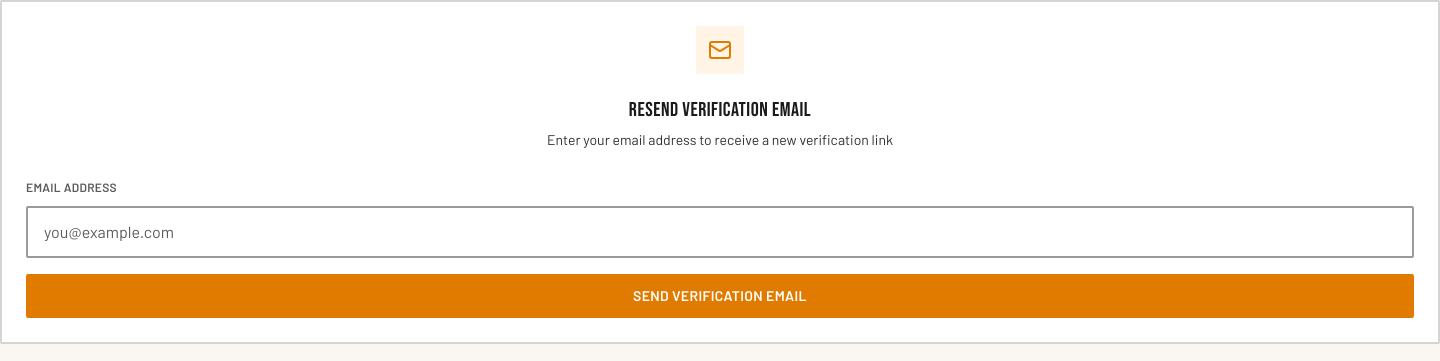
ResendVerificationForm › Form Submission - Success › should show success message after successful submission
In the field labelled "Email Address": [720, 232] box [26,206,1414,258], type "test@example.com"
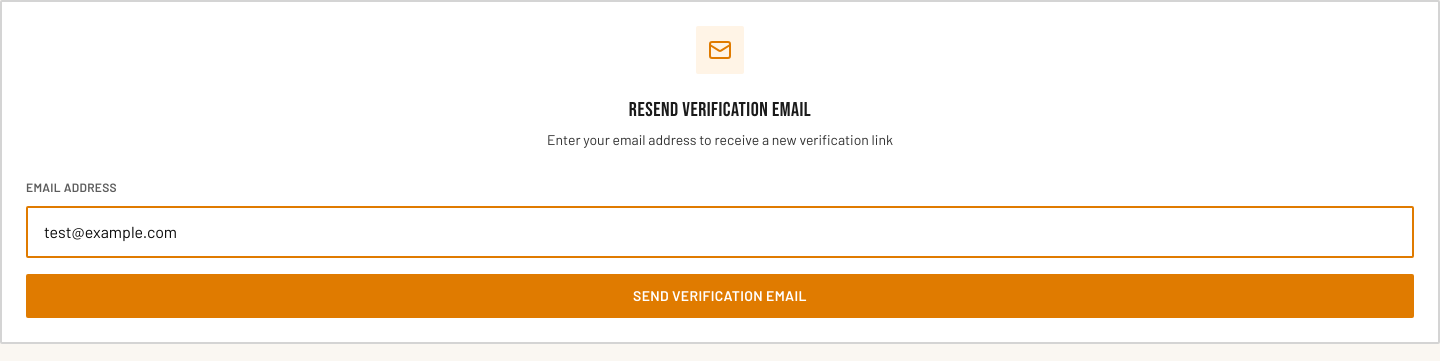
Click the button "Send verification email": [720, 296] box [26,274,1414,318]
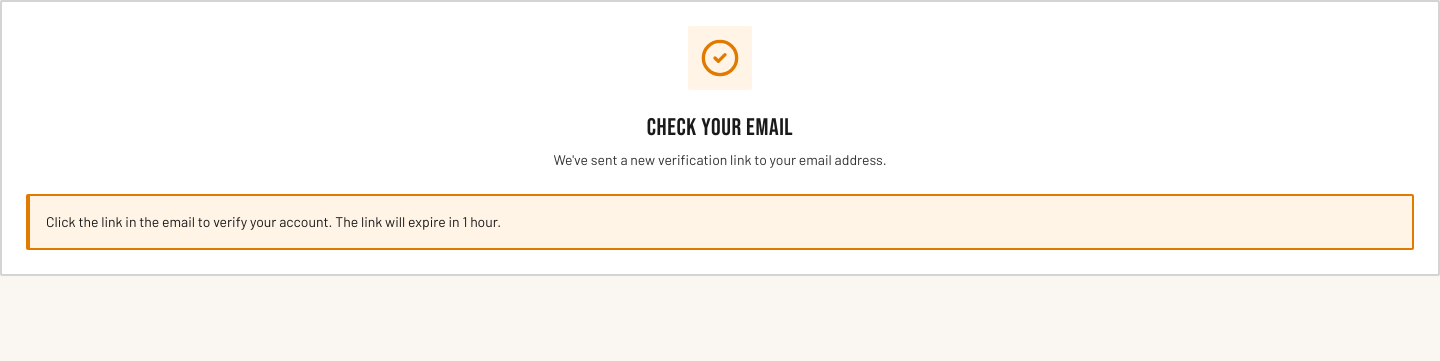
Result: the heading "Check Your Email" is shown at [647,113,793,142]
Result: the text "We've sent a new verification link to your email address." is shown at [553,151,886,168]
